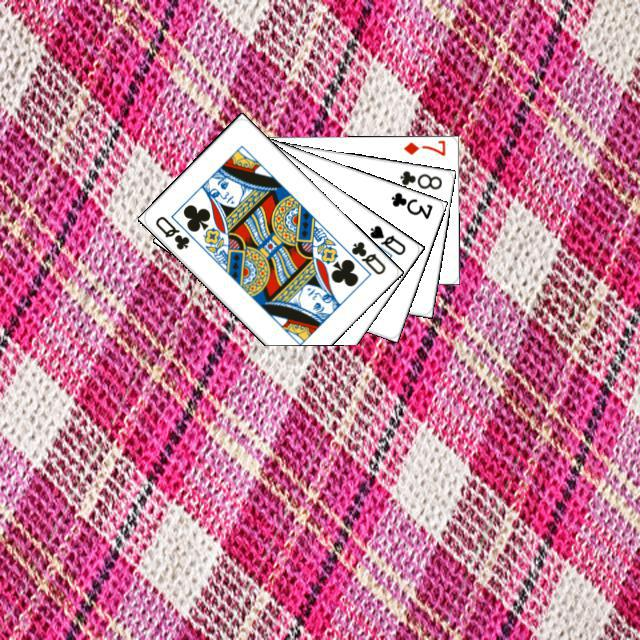3c: (386, 187, 434, 221)
7d: (399, 137, 447, 157)
8c: (395, 166, 444, 191)
Qc: (338, 236, 388, 278), (150, 211, 191, 251)
Qs: (364, 220, 408, 257)
